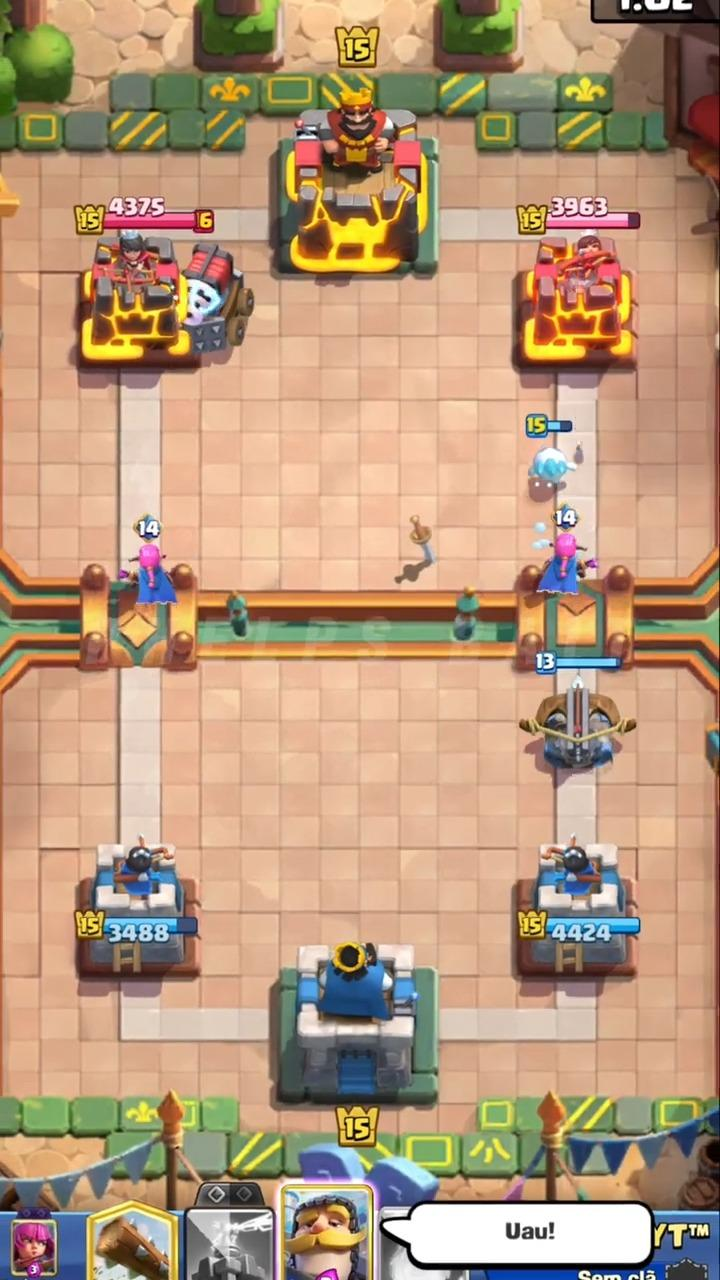archer: (537, 531, 595, 594), (134, 542, 176, 604)
ice spirit: (529, 446, 576, 484)
sparky: (183, 244, 253, 358)
x-bow: (519, 674, 634, 772)
